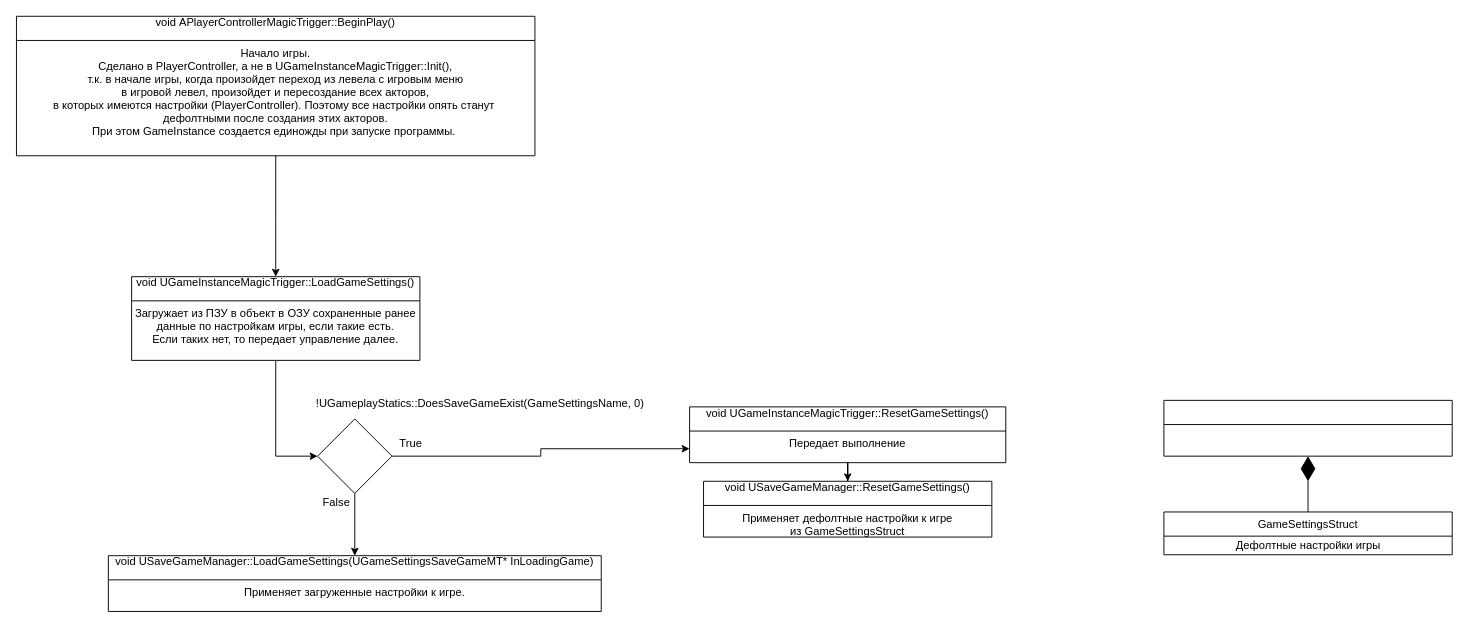
Some shapes in this 1468 by 631 pixel diagram are drawn without their labels. Here are the shapes that lost their labels. From the top down, the centre of each, then its label:
the point at 1307,427: UGameInstanceMagicTrigger
the point at 354,455: If
